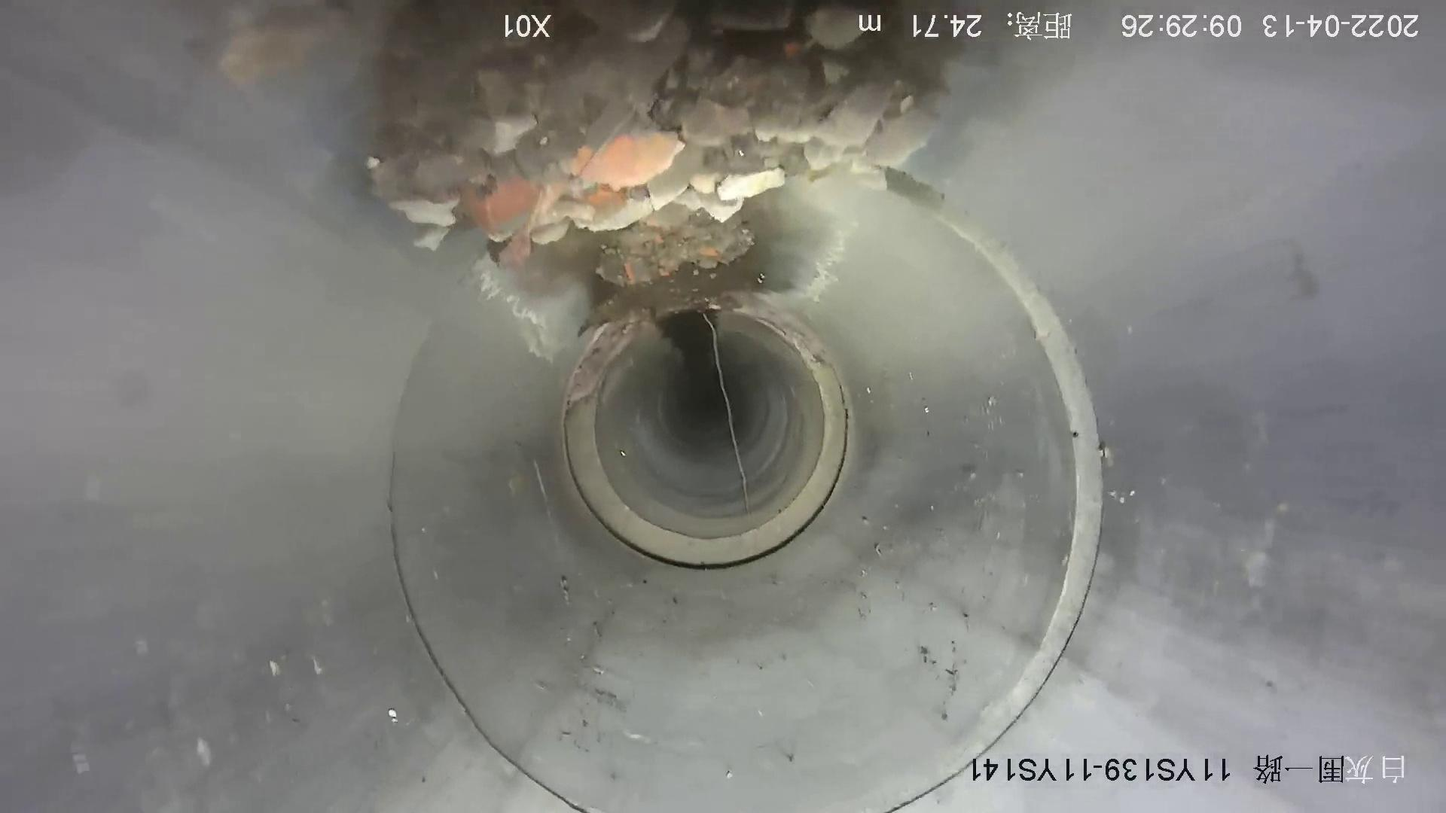CJ: (367, 1, 947, 318)
CKTJ: (862, 194, 1103, 813), (564, 357, 849, 565)
